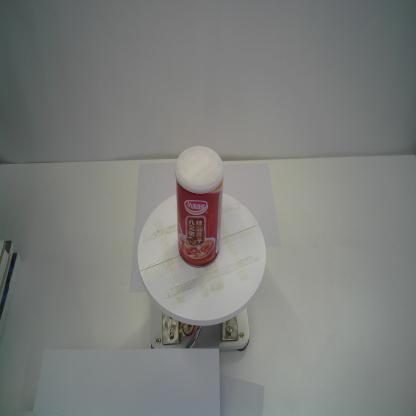Canned Food: (172, 144, 226, 269)
